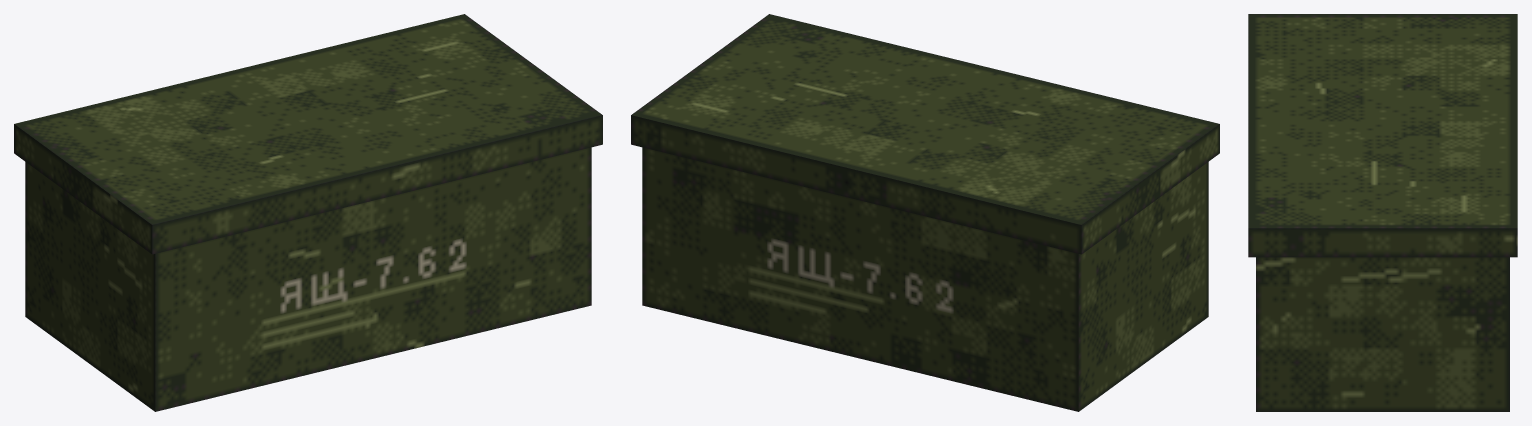
File: SM_Crate_Ammo_01.fbx
3 views of the same model, side by side, from view 1: azimuth 30°, elevation 25°; view 2: azimuth 150°, elevation 25°; view 3: azimuth 270°, elevation 25° (orthographic). The views are drawn at different scales.
Visible parts, largest first — view 1: SM_Crate_Ammo_01; view 2: SM_Crate_Ammo_01; view 3: SM_Crate_Ammo_01.
Part boxes in pixels (bbox=[...]): SM_Crate_Ammo_01: bbox=[14, 14, 602, 411]; SM_Crate_Ammo_01: bbox=[631, 14, 1219, 411]; SM_Crate_Ammo_01: bbox=[1248, 14, 1517, 411].
Size of the model in its own units: 0.64 by 0.26 by 0.34.
Materials: 1 (1 with a texture image).
